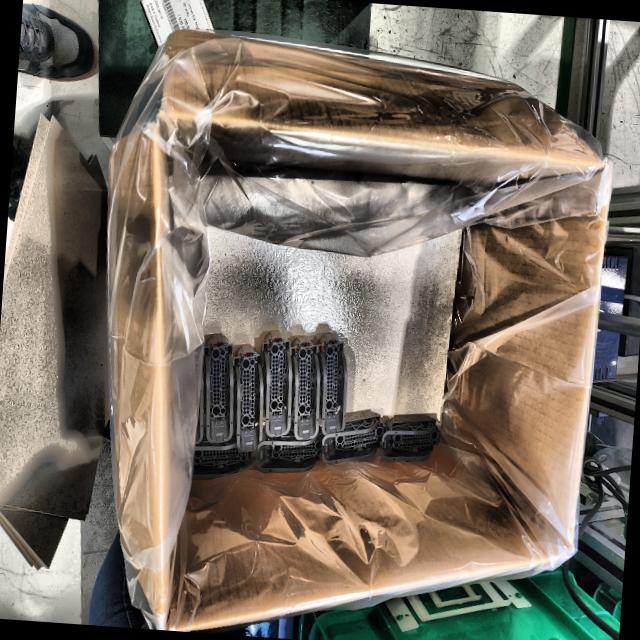P38: (231, 344, 262, 452), (320, 409, 380, 464), (260, 330, 290, 438), (203, 333, 232, 443), (316, 333, 346, 435), (290, 336, 319, 441), (378, 413, 439, 461), (255, 433, 321, 472), (192, 443, 250, 479)
